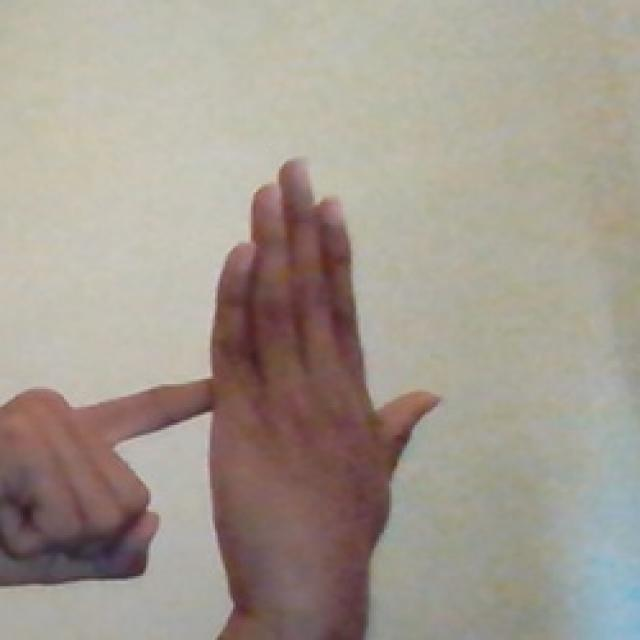Alphabet-R: (2, 178, 505, 640)
